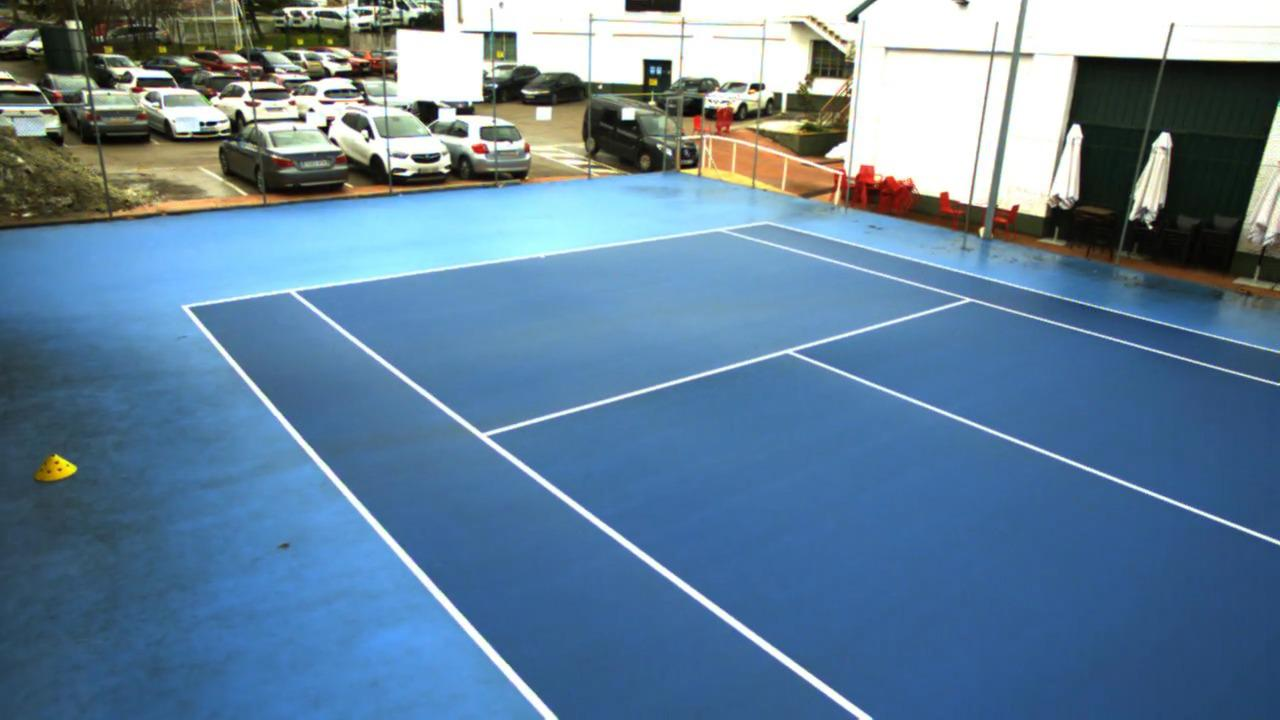cancha_tenis: (291, 230, 1280, 720)
point_f1: (277, 278, 314, 305)
point_f2: (710, 221, 733, 242)
point_fc1: (533, 249, 553, 266)
point_i1: (467, 423, 501, 451)
point_i2: (952, 290, 978, 310)
point_ic1: (776, 339, 804, 366)
